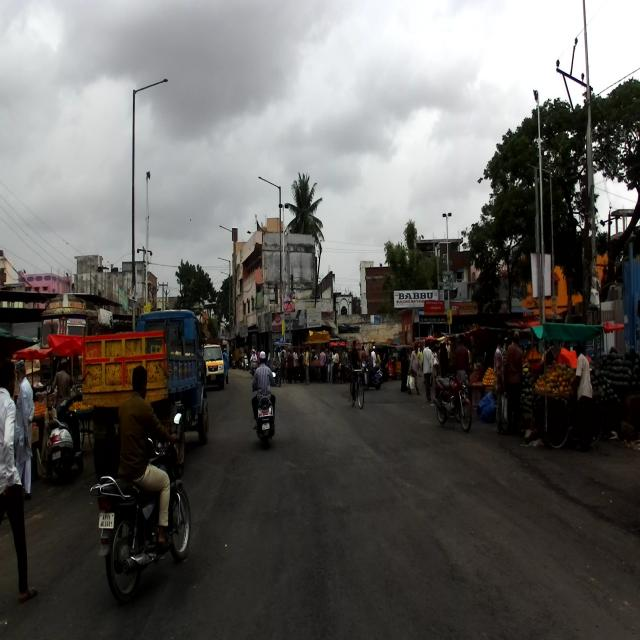motorcycle: (89, 412, 191, 603), (432, 369, 472, 432)
scooter: (46, 395, 84, 481), (250, 368, 276, 448)
truck: (81, 308, 209, 481), (199, 338, 224, 389)
